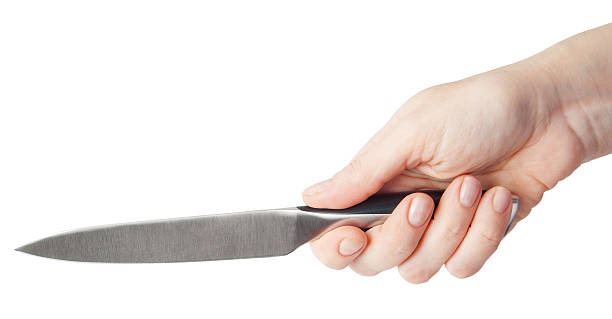knife: (13, 189, 520, 264)
